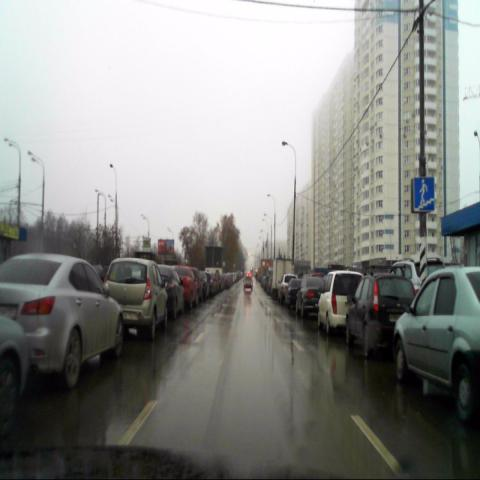6_6: (414, 178, 434, 211)
